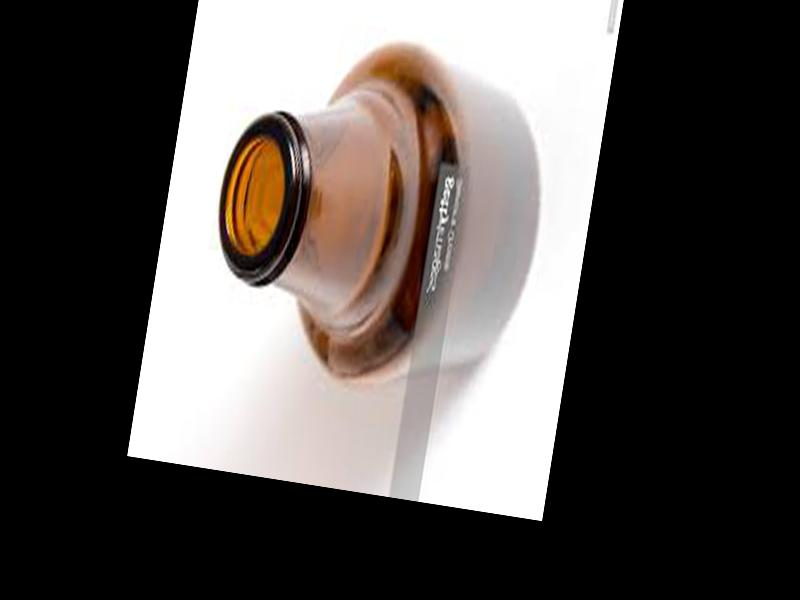Beer: (193, 19, 563, 411)
